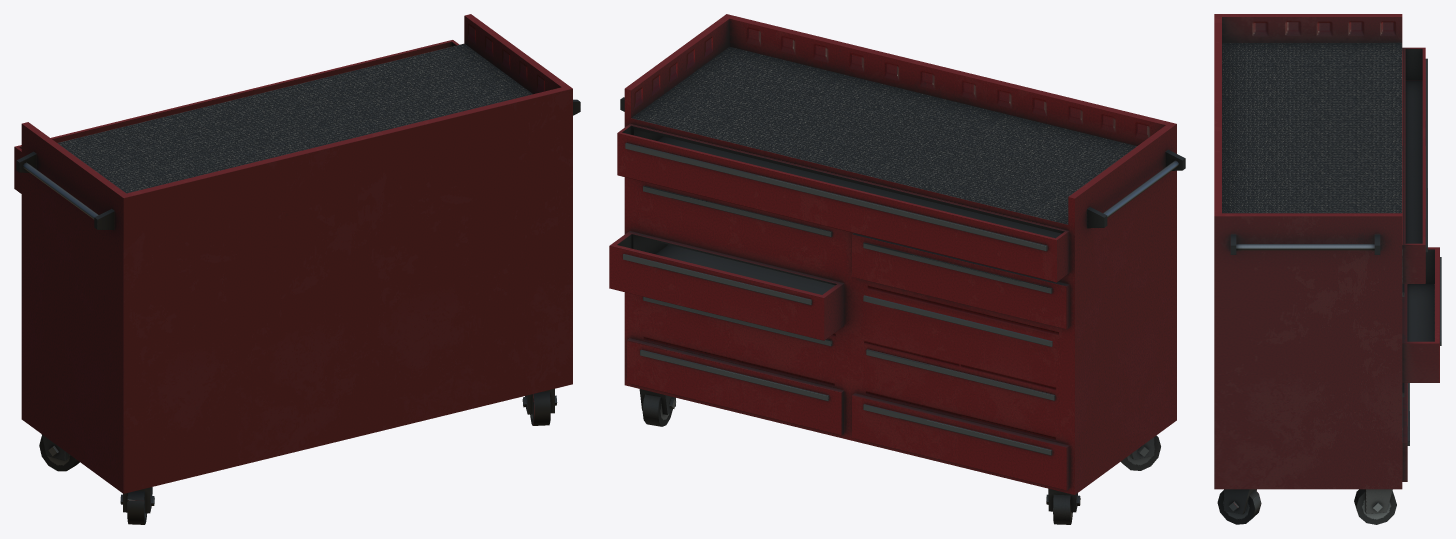
File: ToolchestExported.fbx
The picture shows the model from 3 angles, left to right: view 1: azimuth 30°, elevation 25°; view 2: azimuth 150°, elevation 25°; view 3: azimuth 270°, elevation 25°; orthographic projection. The views are drawn at different scales.
Visible parts, largest first — view 1: ToolChest; view 2: ToolChest; view 3: ToolChest.
Boxes of the visible parts, x1,y1,x2,y2 form: ToolChest: (14,14,580,524); ToolChest: (609,14,1185,524); ToolChest: (1214,14,1441,524).
Size of the model in its own units: 24.95 by 16.8 by 11.
Materials: 1 (1 with a texture image).
